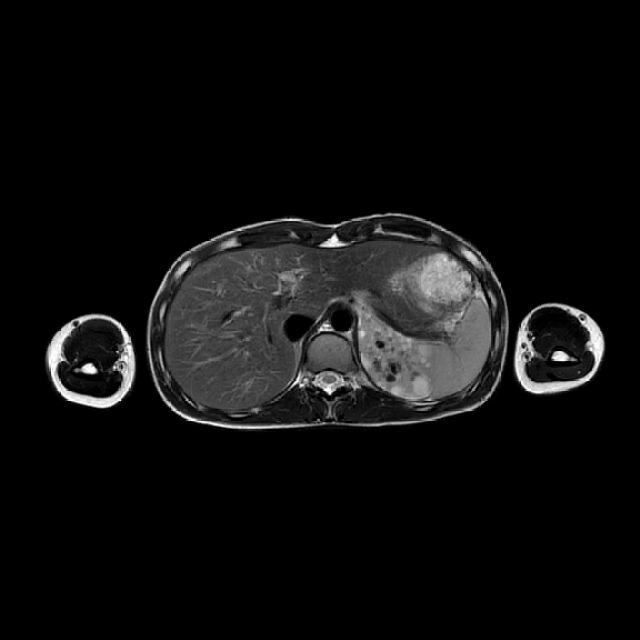sol: (362, 316, 434, 397)
